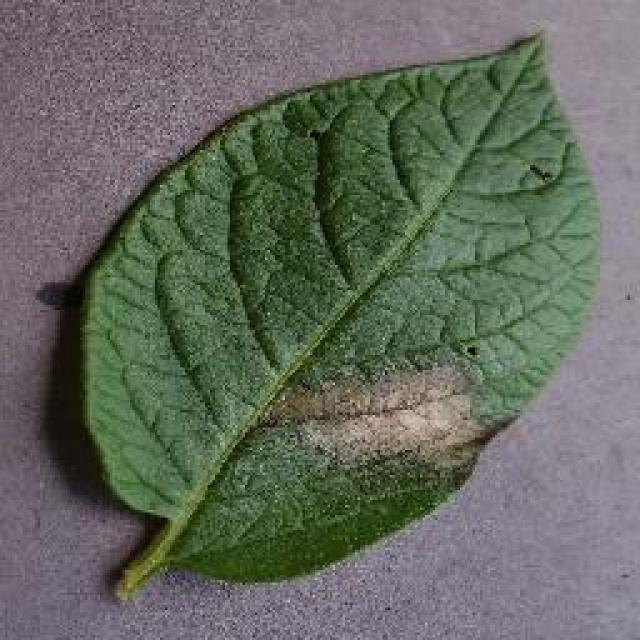late_blight: (73, 28, 605, 602)
